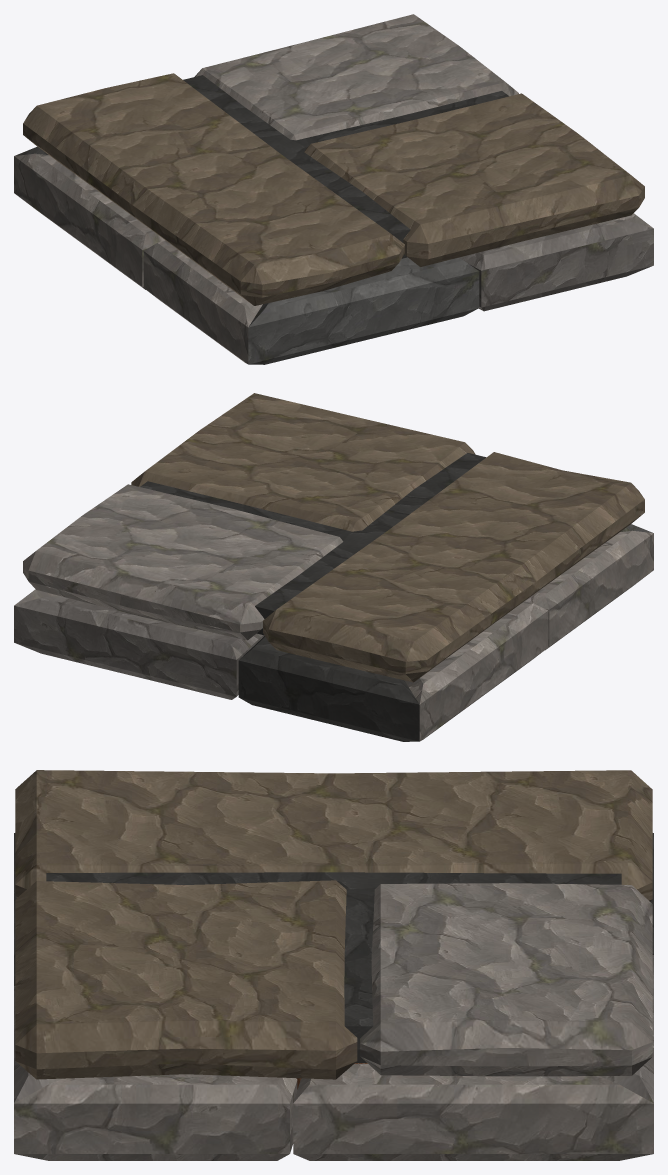
File: small_floor__cut_stone.glb
3 views of the same model, one above another, from view 1: azimuth 30°, elevation 25°; view 2: azimuth 150°, elevation 25°; view 3: azimuth 270°, elevation 25° (orthographic). The views are drawn at different scales.
Parts seen in each view (by area): view 1: model; view 2: model; view 3: model.
Boxes of the visible parts, x1,y1,x2,y2 form: model: (14,14,653,364); model: (14,393,653,741); model: (14,770,653,1160).
Bounding box in the file's own units: 0.988 × 0.2332 × 0.988.
Materials: 6 (6 with a texture image).
